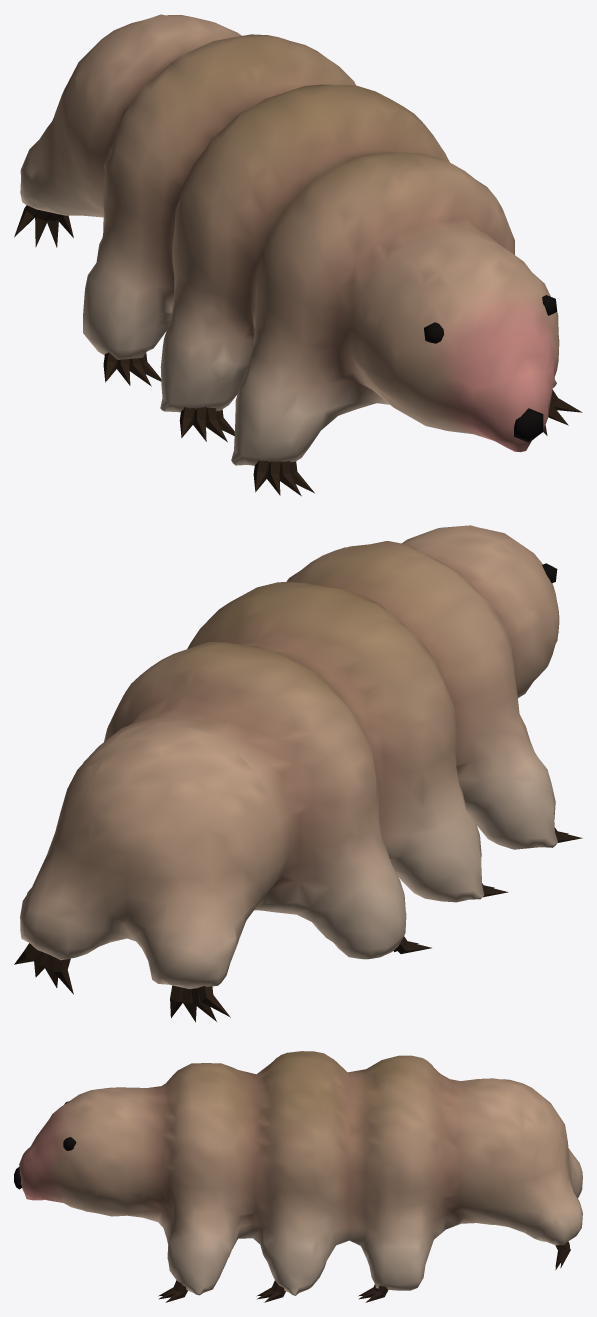
File: WaterBear.fbx
3 renders of one model, top to bottom at view 1: azimuth 30°, elevation 25°; view 2: azimuth 150°, elevation 25°; view 3: azimuth 270°, elevation 25°, orthographic. The views are drawn at different scales.
Visible parts, largest first — view 1: WaterBear; view 2: WaterBear; view 3: WaterBear.
Part boxes in pixels (x1=…): WaterBear: x1=14, y1=14, x2=582, y2=496; WaterBear: x1=14, y1=525, x2=582, y2=1022; WaterBear: x1=14, y1=1051, x2=582, y2=1302.
Bounding box in the file's own units: 0.7939 × 0.6899 × 1.79.
